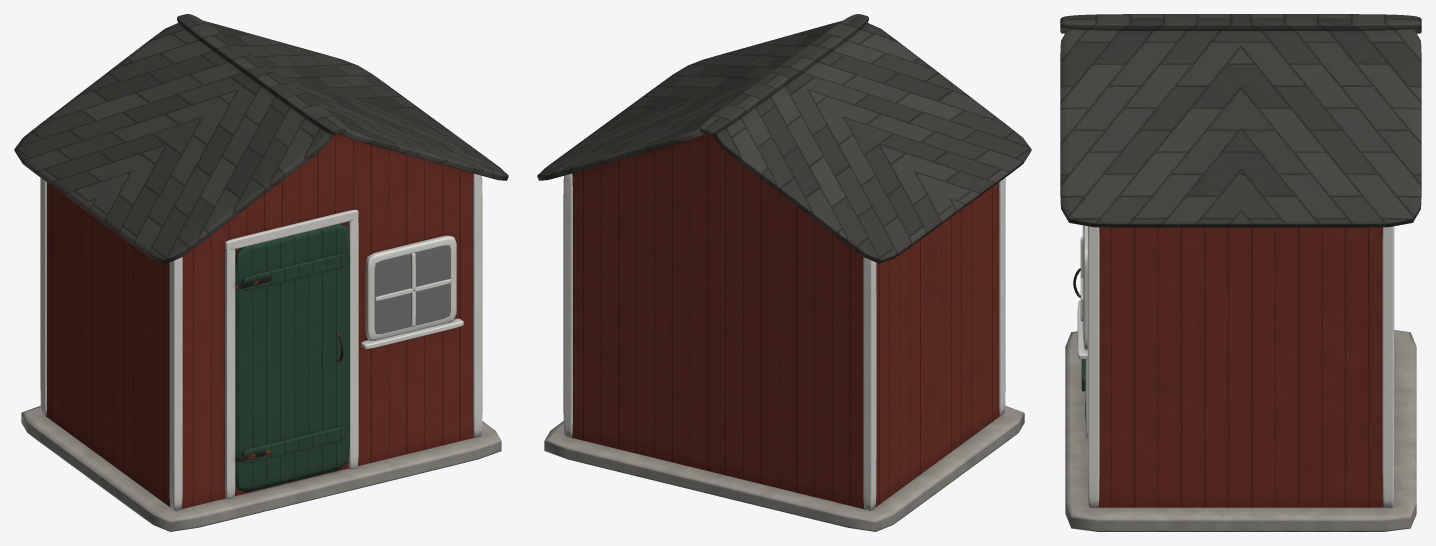
The model's file is barn-red.glb.
The picture shows the model from 3 angles, left to right: view 1: azimuth 30°, elevation 25°; view 2: azimuth 150°, elevation 25°; view 3: azimuth 270°, elevation 25°; orthographic projection. The views are drawn at different scales.
Parts seen in each view (by area): view 1: paint_primary_siding, roof_shingle, paint_secondary_door, trim_white, concrete, glass_window; view 2: paint_primary_siding, roof_shingle, concrete, trim_white; view 3: paint_primary_siding, roof_shingle, concrete, trim_white.
Boxes of the visible parts, left/top/right/bottom form: paint_primary_siding: left=46, top=134, right=474, bottom=509; roof_shingle: left=14, top=14, right=508, bottom=263; paint_secondary_door: left=235, top=223, right=349, bottom=491; trim_white: left=40, top=173, right=482, bottom=510; concrete: left=21, top=406, right=501, bottom=531; glass_window: left=375, top=245, right=450, bottom=333; paint_primary_siding: left=571, top=134, right=999, bottom=509; roof_shingle: left=537, top=14, right=1031, bottom=263; concrete: left=544, top=406, right=1024, bottom=531; trim_white: left=563, top=173, right=1005, bottom=510; paint_primary_siding: left=1098, top=227, right=1383, bottom=507; roof_shingle: left=1060, top=14, right=1421, bottom=227; concrete: left=1065, top=330, right=1416, bottom=531; trim_white: left=1077, top=225, right=1394, bottom=507.
Size of the model in its own units: 2.77 by 2.76 by 2.16.
Materials: 7 (6 with a texture image).
